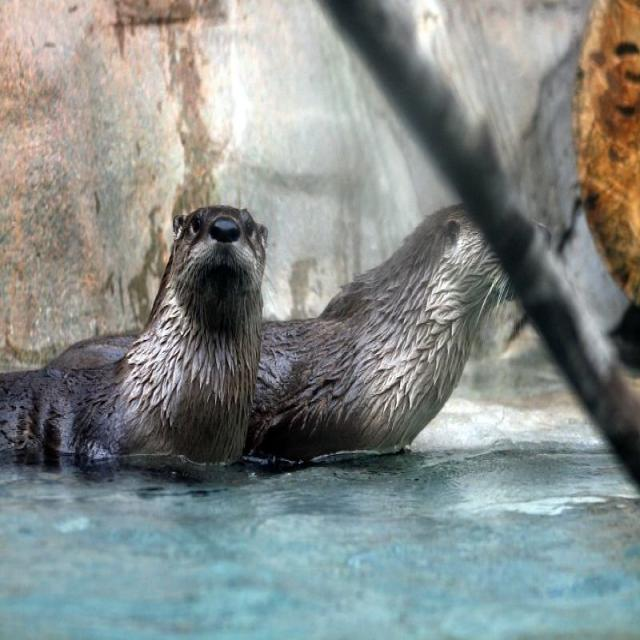otter: (53, 203, 552, 454), (1, 204, 271, 465)
